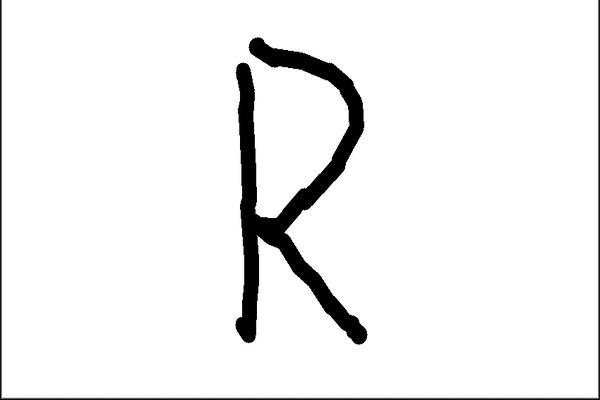R: (225, 23, 382, 354)
